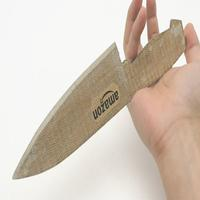knife: (7, 17, 188, 186)
